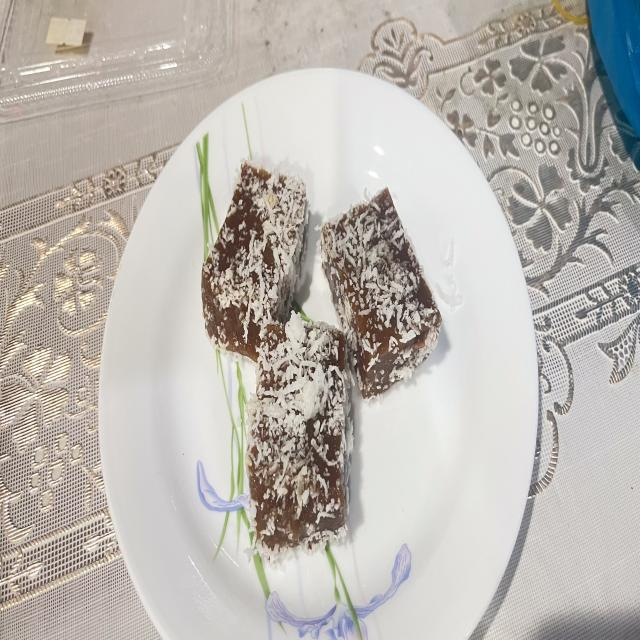kaswi: (246, 313, 352, 560), (321, 189, 441, 398), (201, 162, 308, 360)
